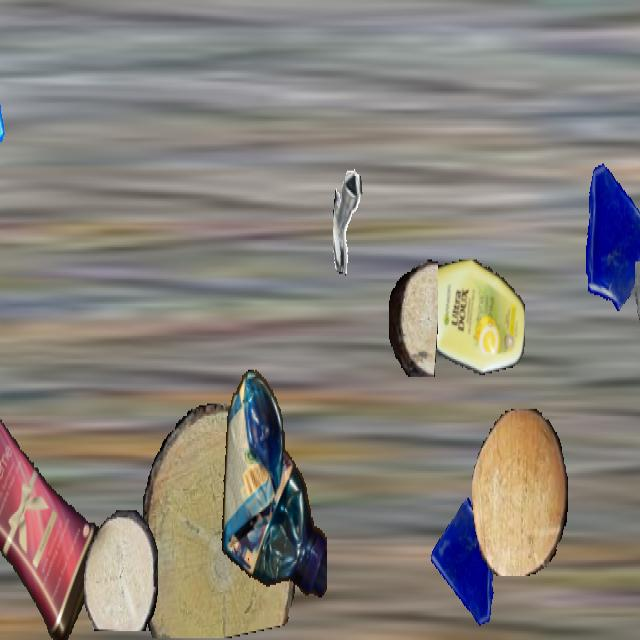glass: (429, 498, 507, 636), (573, 151, 640, 311), (629, 262, 640, 382), (0, 2, 7, 162)
metal: (333, 169, 395, 279)
plastic: (218, 366, 326, 608), (0, 393, 104, 638), (412, 259, 524, 377)
wood: (139, 404, 299, 638), (472, 409, 568, 576), (84, 510, 158, 631), (389, 258, 437, 375)
